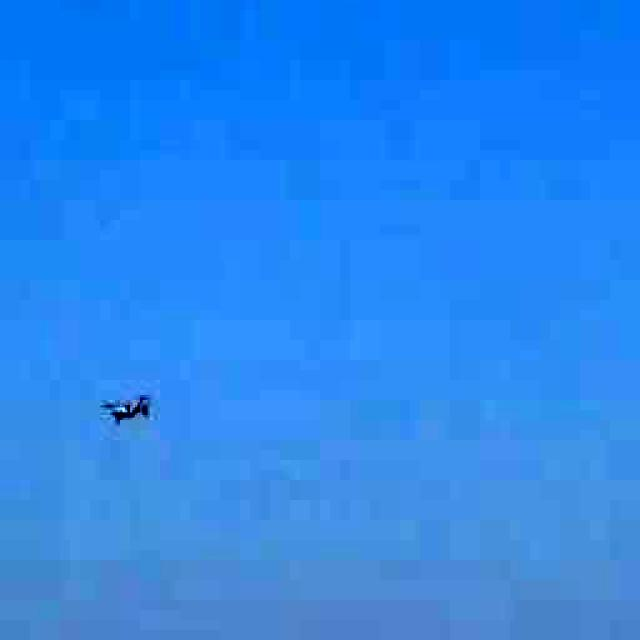bird: (95, 374, 162, 441)
